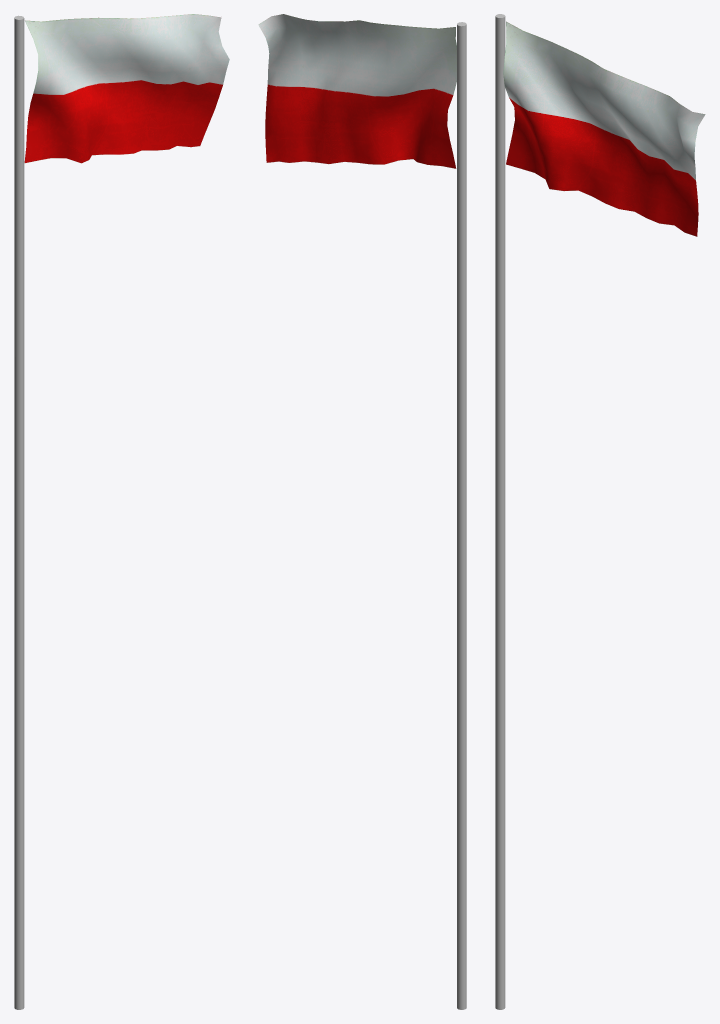
Rendered from FlagPole_Poland.fbx.
3 views of the same model, side by side, from view 1: azimuth 30°, elevation 25°; view 2: azimuth 150°, elevation 25°; view 3: azimuth 330°, elevation 25° (orthographic).
Parts seen in each view (by area): view 1: Poland, Pole; view 2: Poland, Pole; view 3: Poland, Pole.
Part boxes in pixels (bbox=[...]): Poland: bbox=[24, 14, 229, 163]; Pole: bbox=[14, 15, 24, 1009]; Poland: bbox=[258, 14, 456, 168]; Pole: bbox=[457, 22, 466, 1009]; Poland: bbox=[503, 21, 705, 236]; Pole: bbox=[495, 14, 505, 1009].
Bounding box in the file's own units: 201 × 914 × 28.33.
